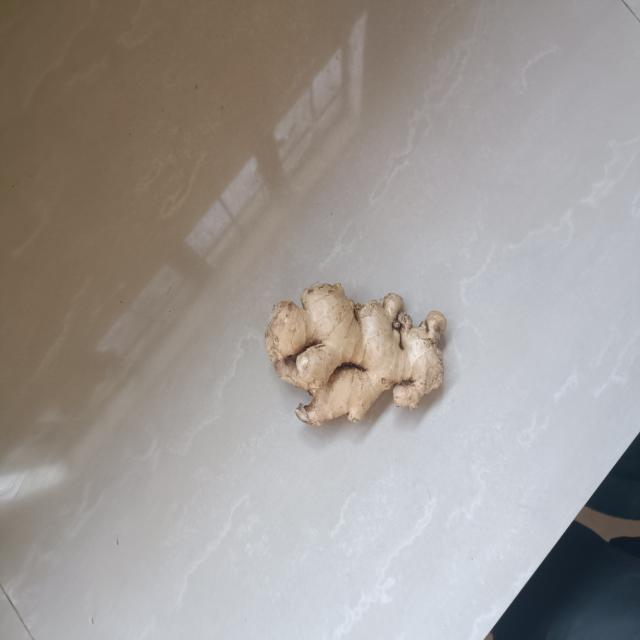ginger: (263, 280, 447, 423)
